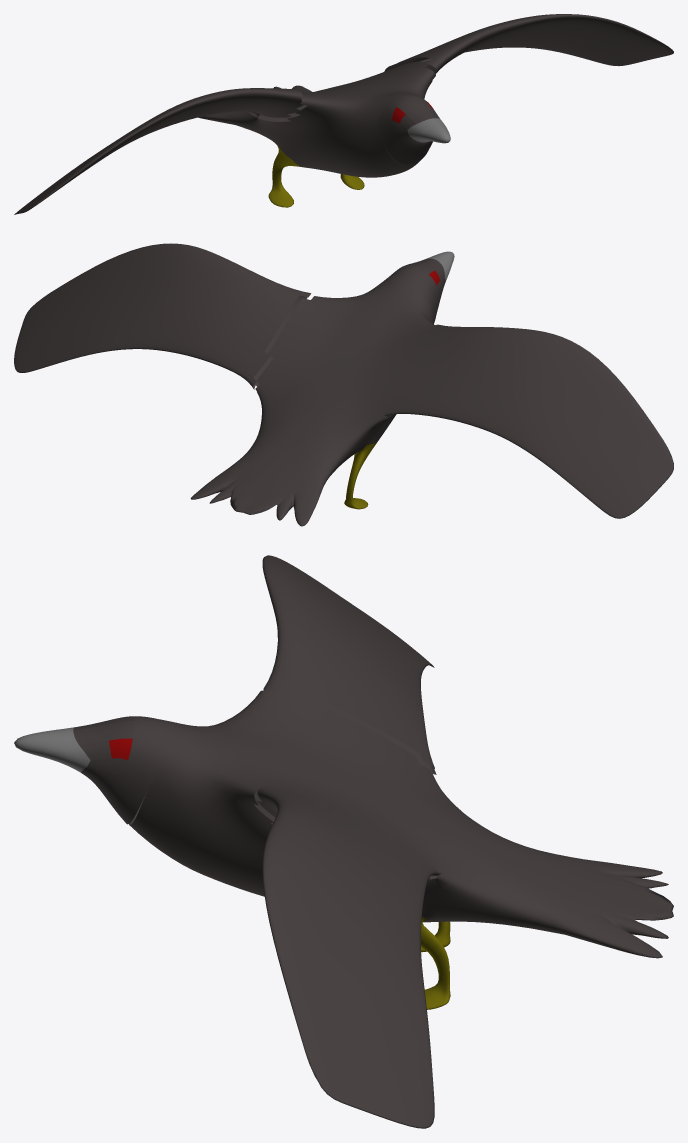
File: newbird.glb
3 views of the same model, one above another, from view 1: azimuth 30°, elevation 25°; view 2: azimuth 150°, elevation 25°; view 3: azimuth 270°, elevation 25° (orthographic). The views are drawn at different scales.
Parts seen in each view (by area): view 1: bird, bird.002, bird.001; view 2: bird.002, bird, bird.001; view 3: bird.002, bird, bird.001.
Part boxes in pixels (box(x1,y1,x2,y2)): bird: box(198, 61, 435, 207); bird.002: box(14, 14, 673, 214); bird.001: box(378, 94, 450, 164); bird.002: box(14, 243, 673, 518); bird: box(190, 274, 435, 526); bird.001: box(389, 251, 454, 319); bird.002: box(257, 555, 440, 1128); bird: box(129, 690, 673, 1009); bird.001: box(14, 716, 162, 824).
Bounding box in the file's own units: 328 × 82.79 × 184.
